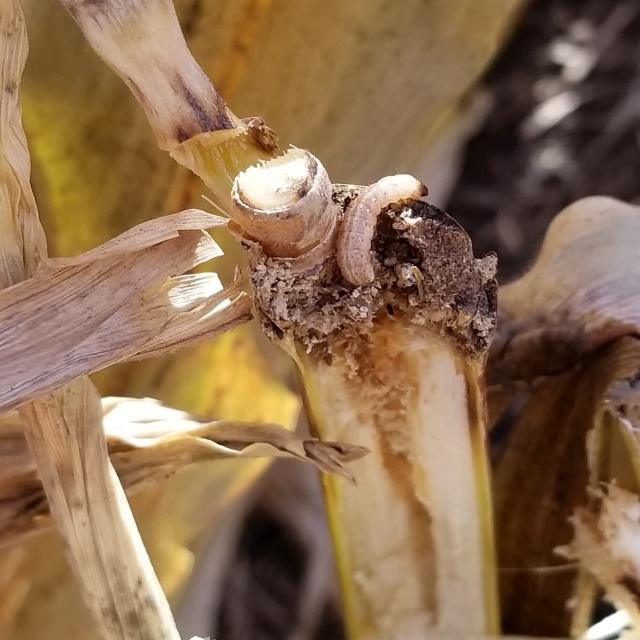cornborer-Larva-: (333, 170, 436, 289)
